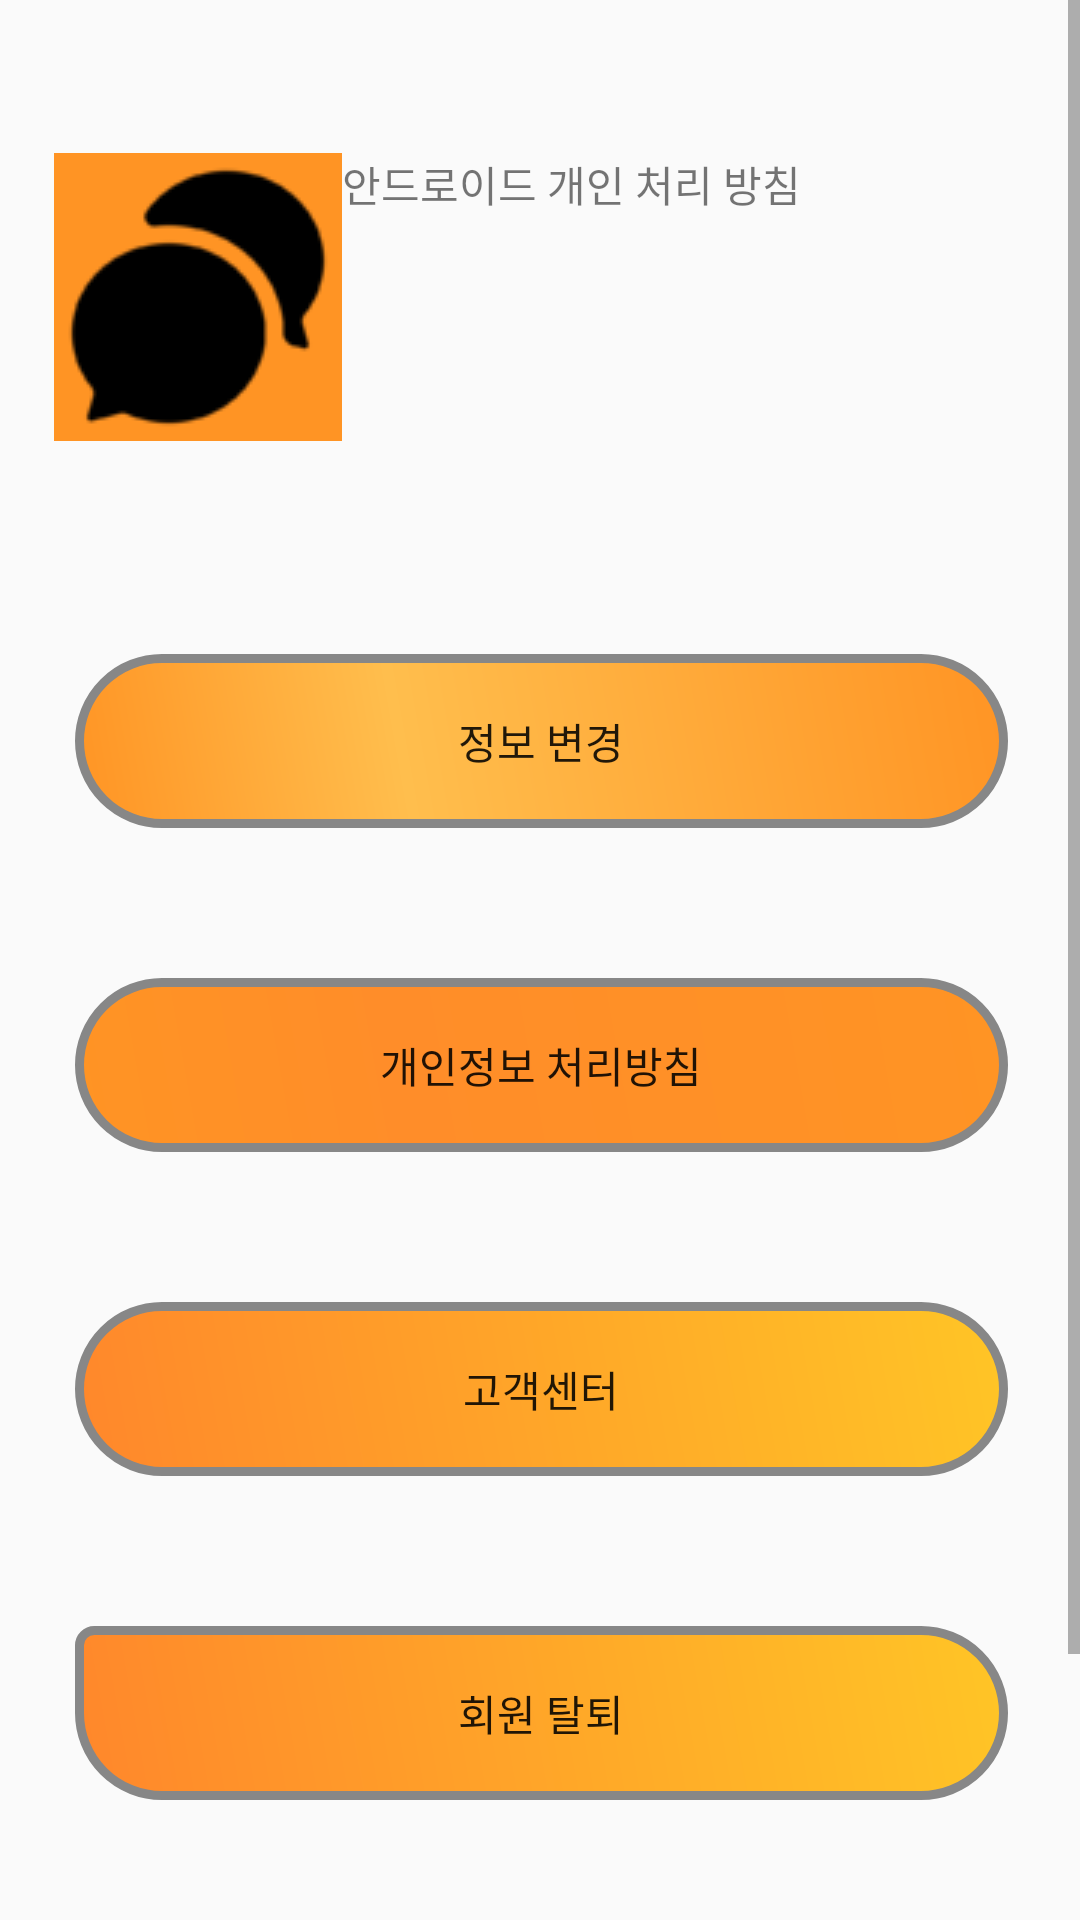

Screen size 1080px×1920px. Icon name, then its box in pixels as (x1, y1, x2, y2):
chat: (54, 153, 342, 441)
